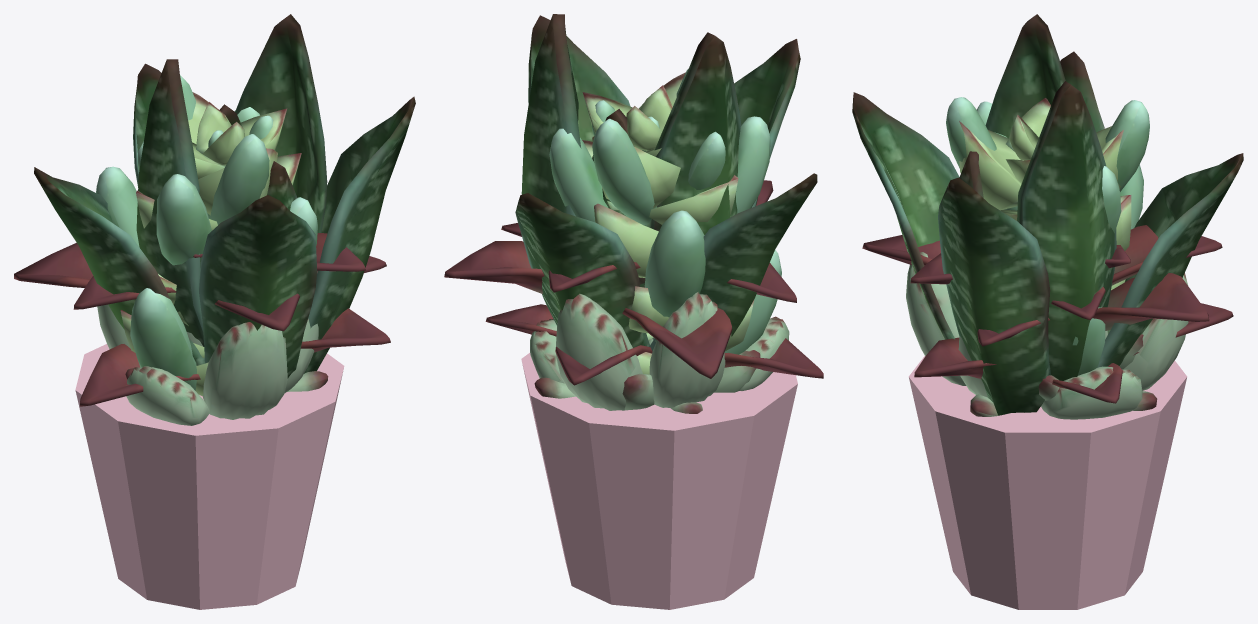
File: succulents.glb
3 views of the same model, side by side, from view 1: azimuth 30°, elevation 25°; view 2: azimuth 150°, elevation 25°; view 3: azimuth 270°, elevation 25° (orthographic). The views are drawn at different scales.
Parts seen in each view (by area): view 1: aroe_tex_Image_0.030A, aroe_solid_#F0C4D4, uni_tex_Image_0.030A, kumadouji_tex_Image_0.030A, momiji_tex_Image_1.028, jyuzuhoshi_tex_Image_0.030A, gurauka_tex_Image_0.030A; view 2: aroe_solid_#F0C4D4, aroe_tex_Image_0.030A, uni_tex_Image_0.030A, kumadouji_tex_Image_0.030A, momiji_tex_Image_1.028, jyuzuhoshi_tex_Image_0.030A, gurauka_tex_Image_0.030A; view 3: aroe_tex_Image_0.030A, aroe_solid_#F0C4D4, momiji_tex_Image_1.028, kumadouji_tex_Image_0.030A, uni_tex_Image_0.030A, jyuzuhoshi_tex_Image_0.030A, gurauka_tex_Image_0.030A.
Part boxes in pixels (x1,y1,x2,y2): aroe_tex_Image_0.030A: (34, 14, 415, 378); aroe_solid_#F0C4D4: (75, 344, 344, 609); uni_tex_Image_0.030A: (96, 75, 317, 390); kumadouji_tex_Image_0.030A: (97, 271, 318, 425); momiji_tex_Image_1.028: (14, 233, 390, 406); jyuzuhoshi_tex_Image_0.030A: (120, 92, 301, 396); gurauka_tex_Image_0.030A: (125, 368, 328, 413); aroe_solid_#F0C4D4: (521, 353, 797, 609); aroe_tex_Image_0.030A: (515, 14, 817, 350); uni_tex_Image_0.030A: (549, 69, 781, 354); kumadouji_tex_Image_0.030A: (530, 292, 789, 410); momiji_tex_Image_1.028: (444, 180, 823, 385); jyuzuhoshi_tex_Image_0.030A: (582, 72, 754, 374); gurauka_tex_Image_0.030A: (534, 350, 760, 413); aroe_tex_Image_0.030A: (852, 14, 1243, 415); aroe_solid_#F0C4D4: (908, 356, 1187, 609); momiji_tex_Image_1.028: (862, 225, 1233, 403); kumadouji_tex_Image_0.030A: (906, 252, 1188, 419); uni_tex_Image_0.030A: (946, 97, 1149, 375); jyuzuhoshi_tex_Image_0.030A: (959, 98, 1131, 290); gurauka_tex_Image_0.030A: (970, 334, 1157, 416).
Size of the model in its own units: 0.3008 by 0.465 by 0.309.
3 materials, 2 textured.
